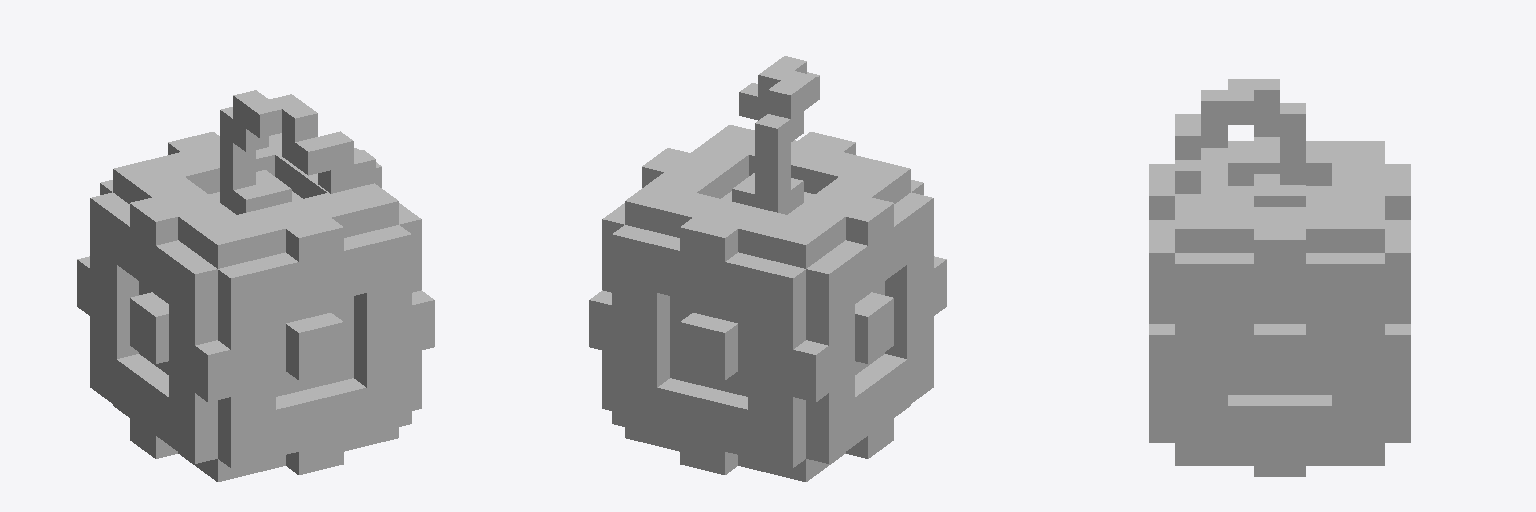
File: bomb_pls_work.obj
3 renders of one model, left to right at view 1: azimuth 30°, elevation 25°; view 2: azimuth 150°, elevation 25°; view 3: azimuth 270°, elevation 25°, orthographic.
Parts seen in each view (by area): view 1: BOMB; view 2: BOMB; view 3: BOMB.
Boxes of the visible parts, x1=… form: BOMB: x1=77, y1=90, x2=434, y2=481; BOMB: x1=589, y1=56, x2=946, y2=481; BOMB: x1=1149, y1=79, x2=1410, y2=476.
Size of the model in its own units: 1 by 1.4 by 1.